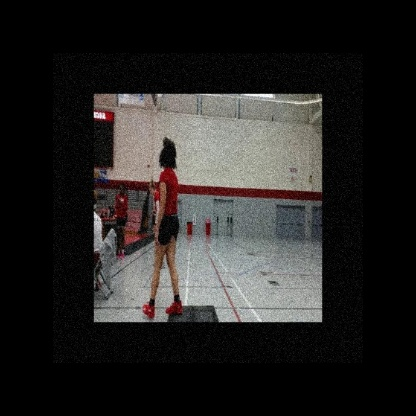lateral_flexion_right: (141, 137, 183, 322)
stance_width_broad: (142, 168, 183, 322)
